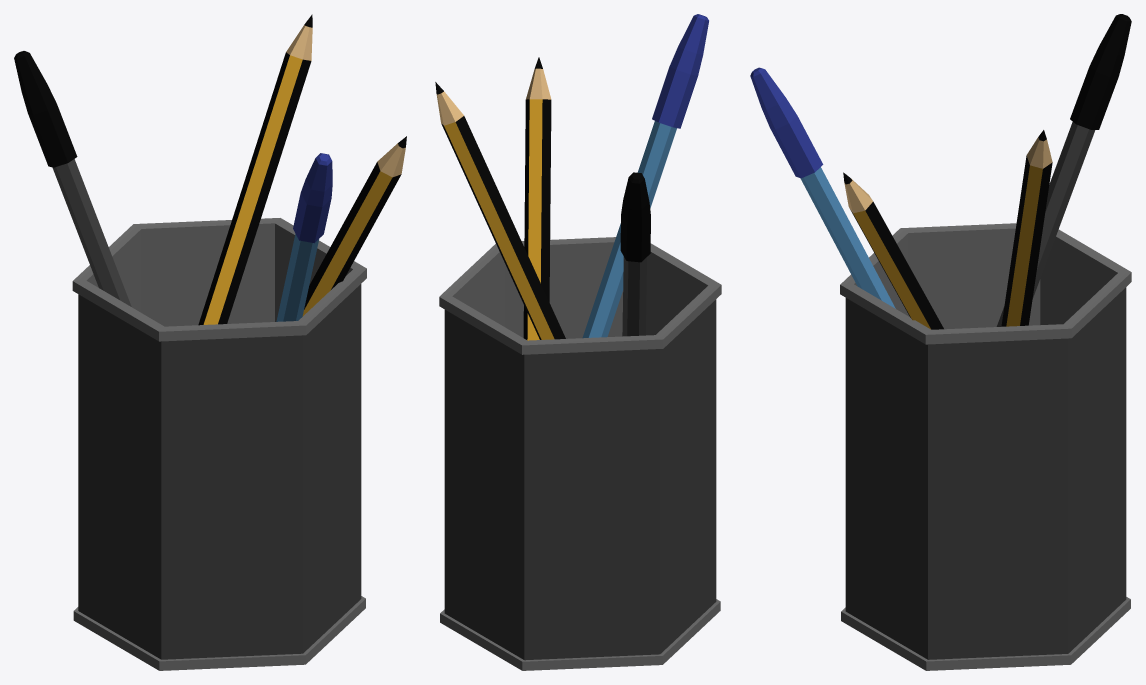
Rendered from H_Can_Pencil.fbx.
The picture shows the model from 3 angles, left to right: view 1: azimuth 30°, elevation 25°; view 2: azimuth 150°, elevation 25°; view 3: azimuth 270°, elevation 25°; orthographic projection. The views are drawn at different scales.
Visible parts, largest first — view 1: H_Can_Pencil; view 2: H_Can_Pencil; view 3: H_Can_Pencil.
Part boxes in pixels (x1=…): H_Can_Pencil: x1=14, y1=14, x2=406, y2=670; H_Can_Pencil: x1=435, y1=14, x2=721, y2=670; H_Can_Pencil: x1=750, y1=14, x2=1131, y2=670.
Bounding box in the file's own units: 55.32 × 113 × 71.81.
